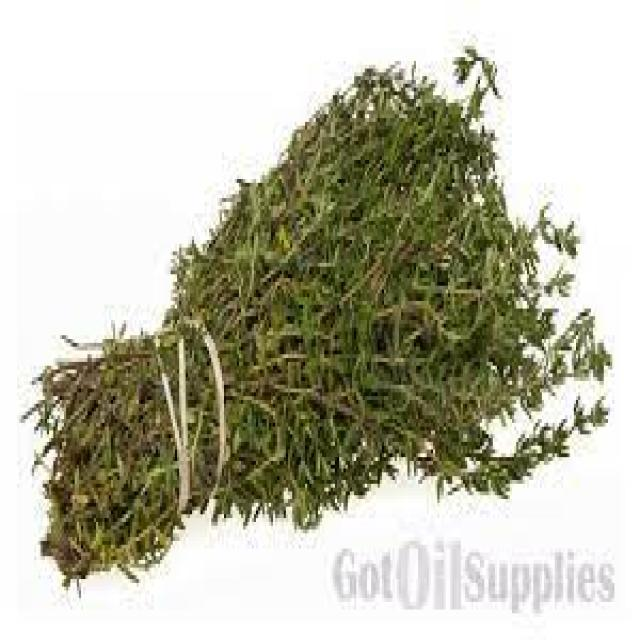Thyme: (34, 38, 610, 518)
